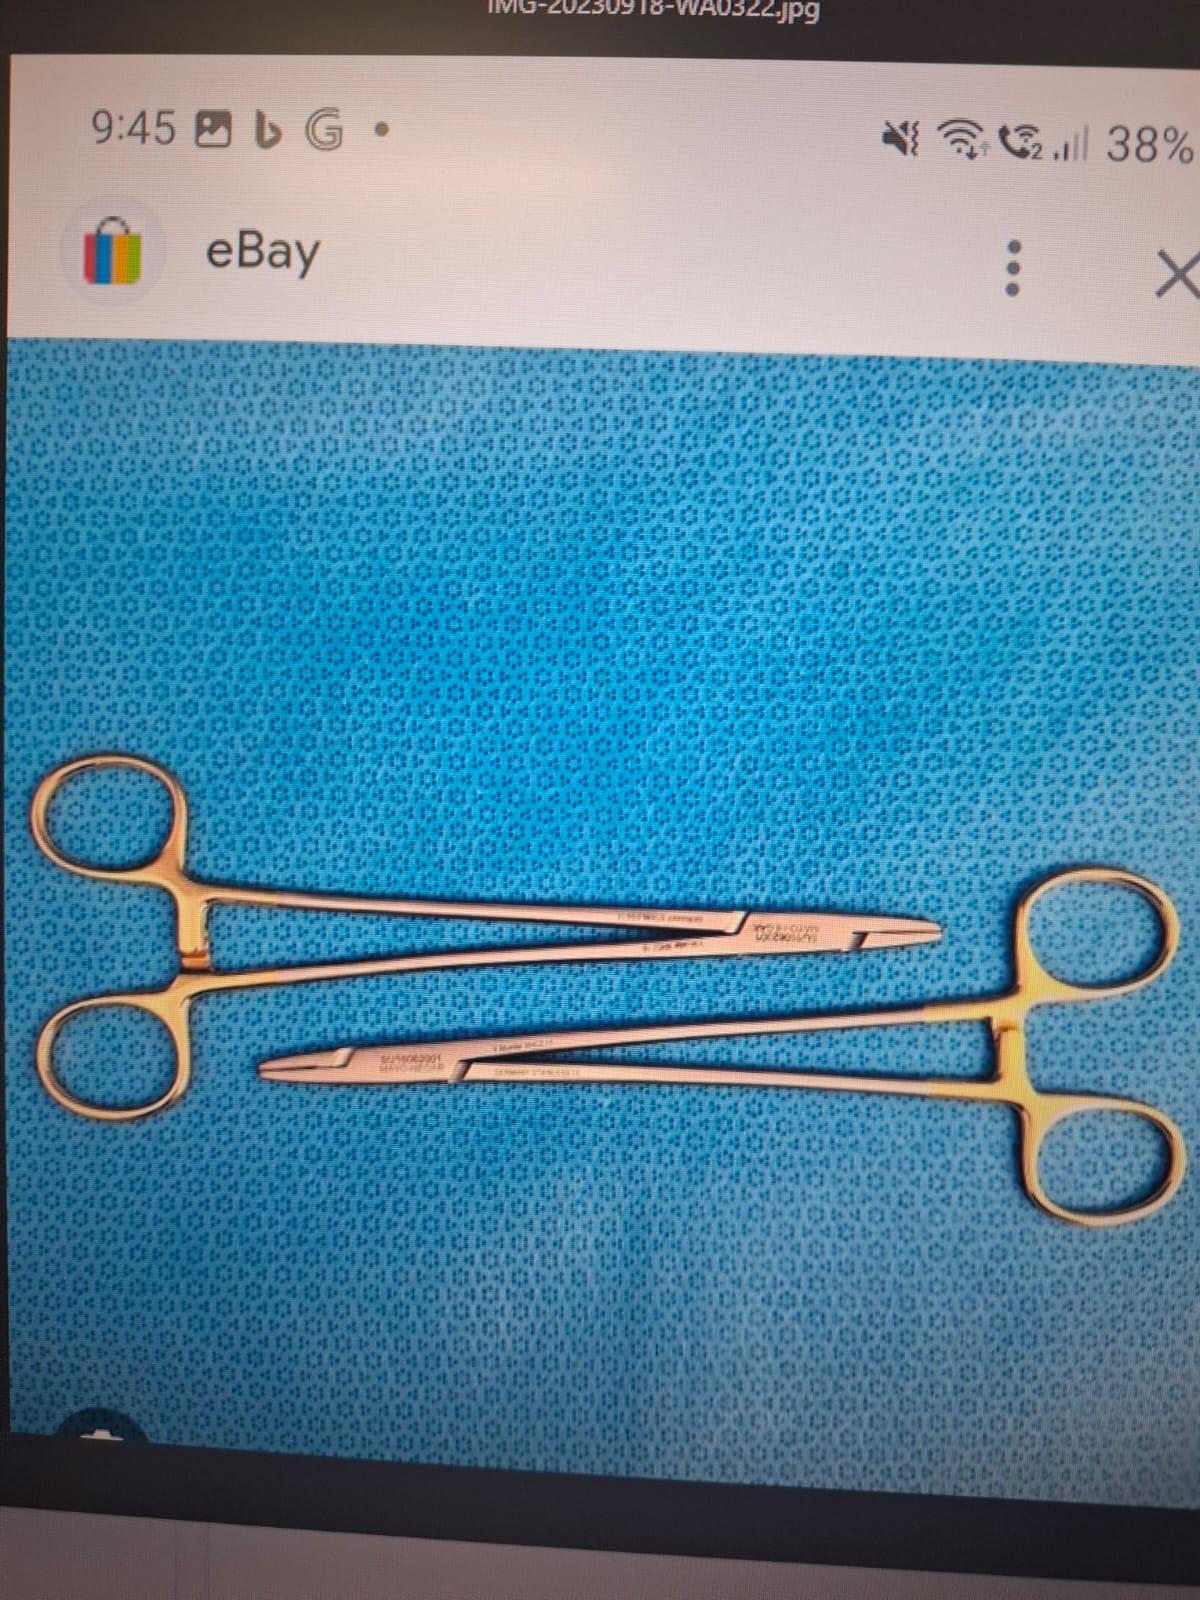Needle Holder: (18, 722, 948, 1125), (252, 863, 1195, 1245)
